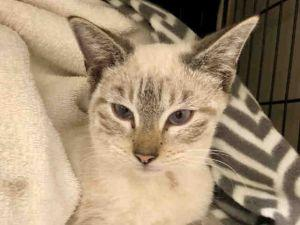siamese: (69, 2, 250, 188)
